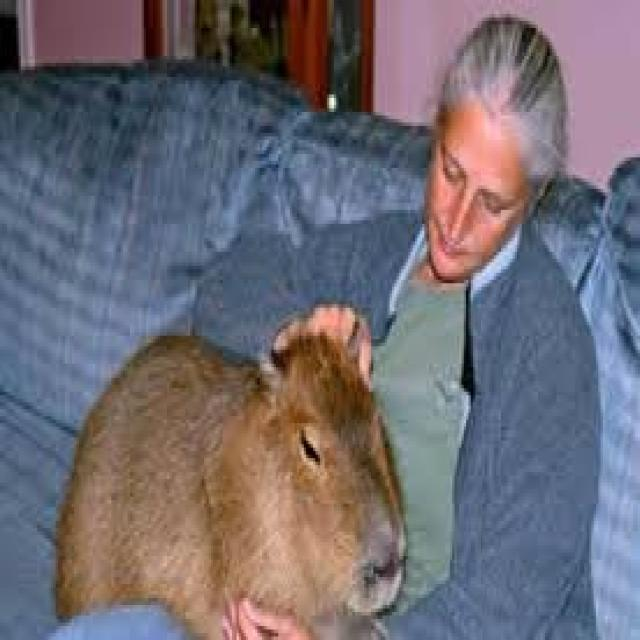capy: (50, 328, 407, 640)
